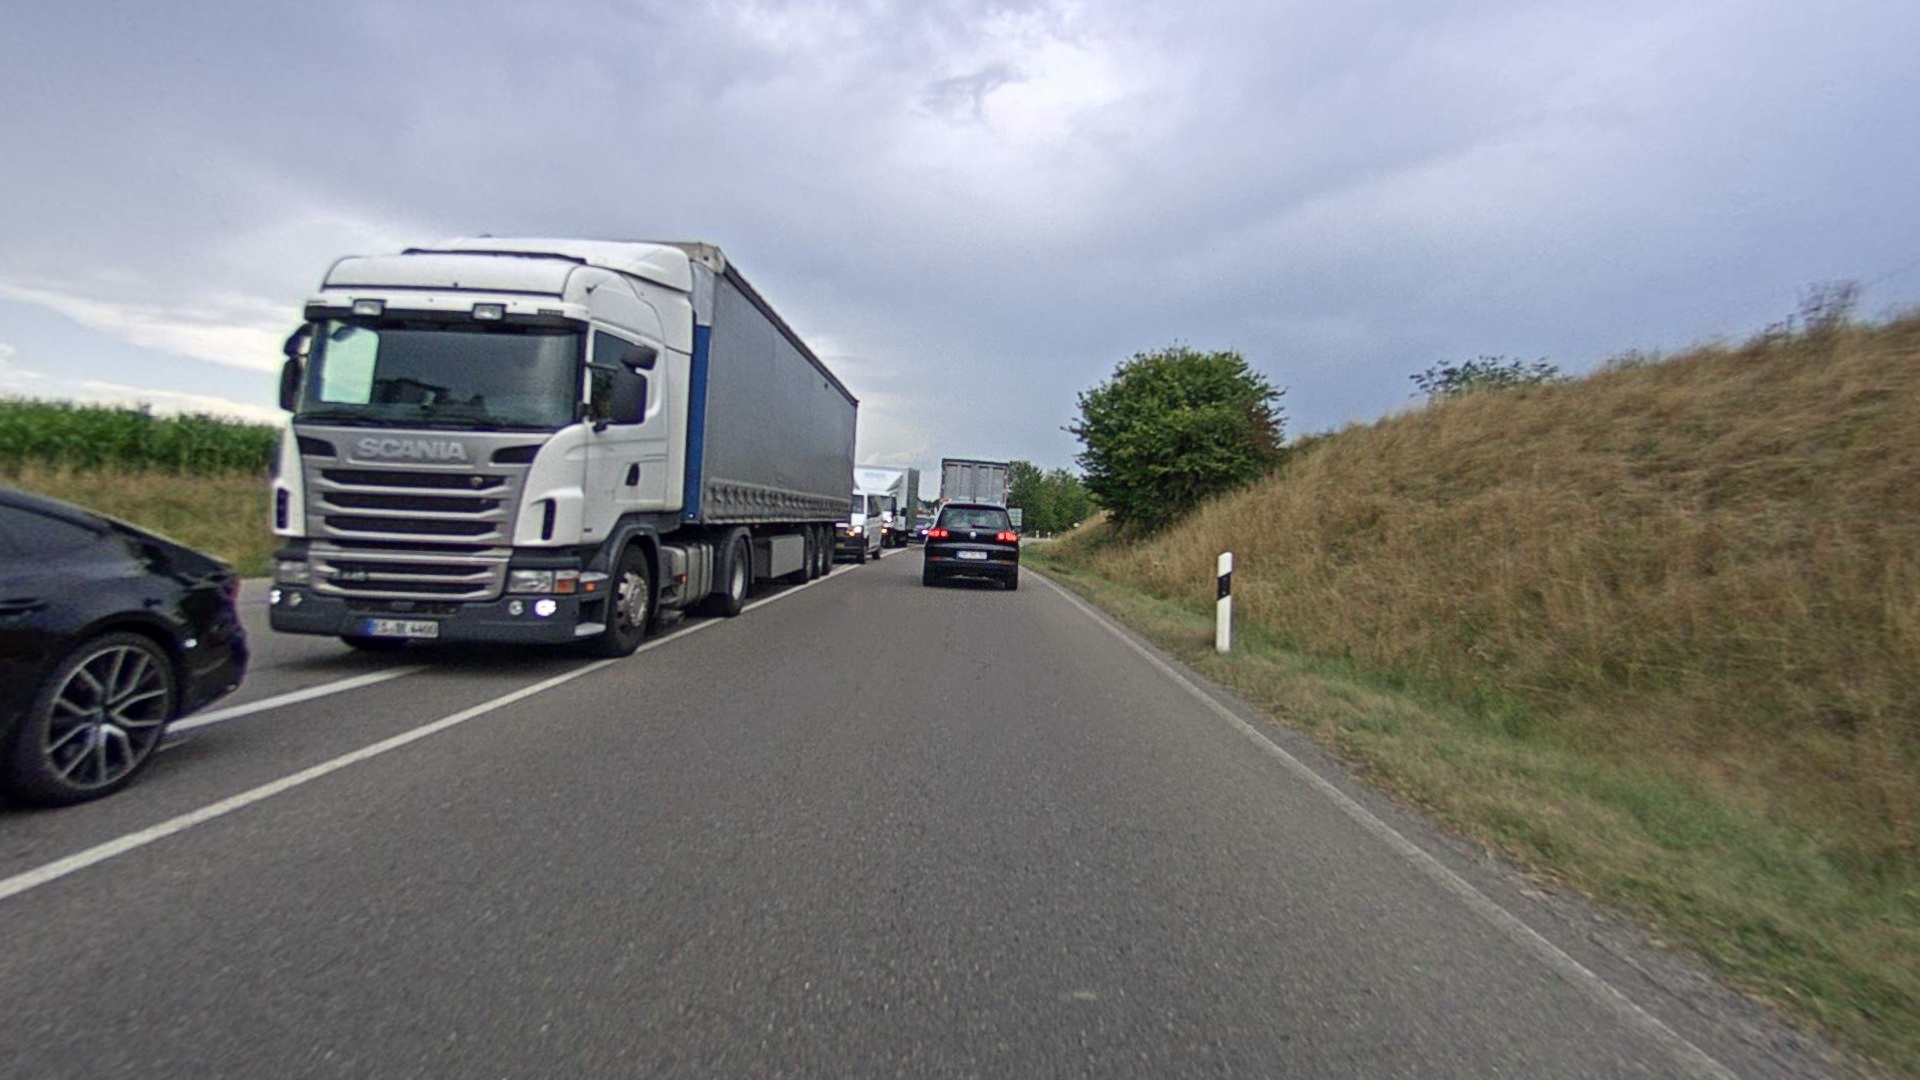car: (919, 501, 1025, 593)
truck: (262, 229, 861, 669)
